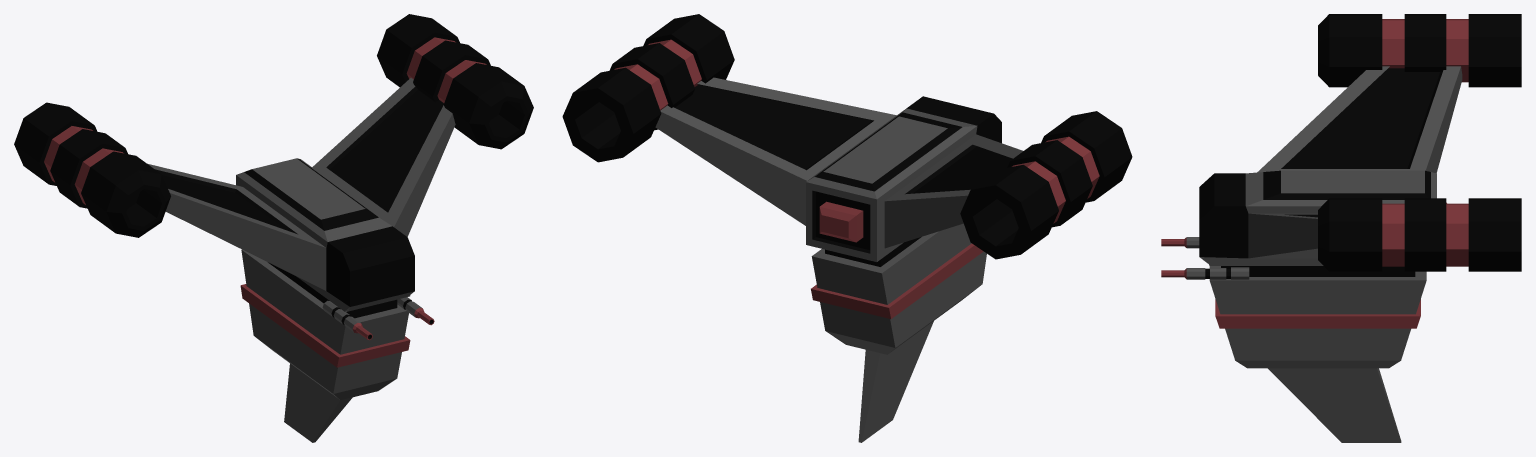
Rendered from Spaceship11_2.fbx.
The picture shows the model from 3 angles, left to right: view 1: azimuth 30°, elevation 25°; view 2: azimuth 150°, elevation 25°; view 3: azimuth 270°, elevation 25°; orthographic projection. The views are drawn at different scales.
Parts seen in each view (by area): view 1: Spaceship11_2; view 2: Spaceship11_2; view 3: Spaceship11_2.
Boxes of the visible parts, x1,y1,x2,y2 form: Spaceship11_2: (14, 14, 533, 442); Spaceship11_2: (562, 14, 1132, 442); Spaceship11_2: (1161, 14, 1521, 442).
Size of the model in its own units: 1319 by 947 by 924.
